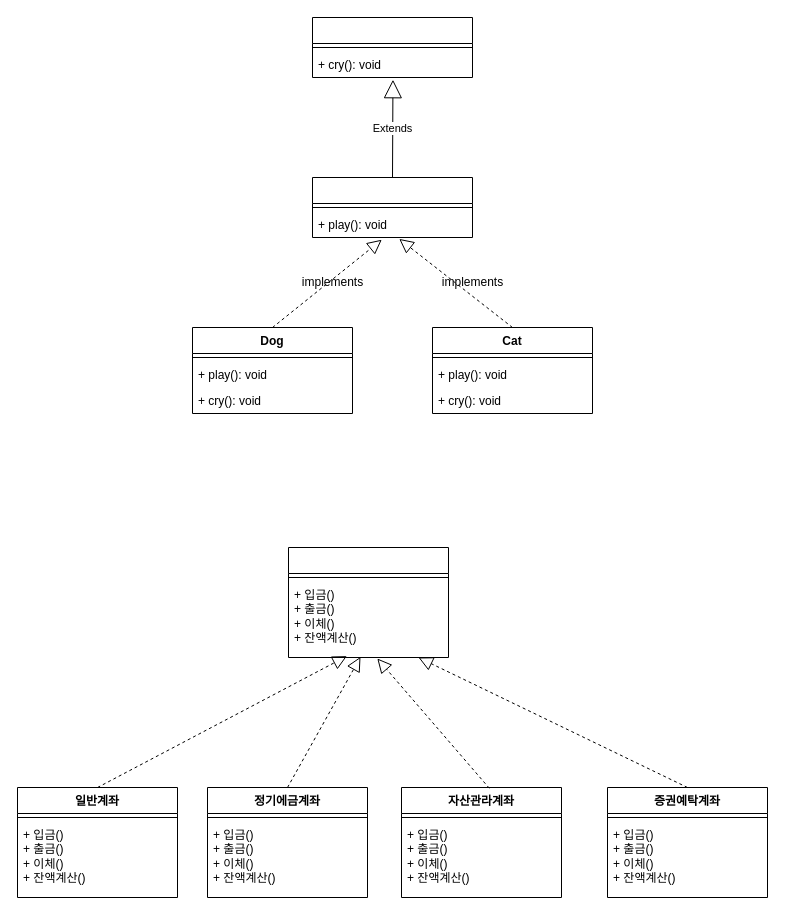
Image size: 785x918. Some labels were removed from this diagram. Here are the shapes that lost their labels. From the top down, the box of each, then its label:
(312, 16, 472, 78): Animal
(312, 176, 472, 238): Pet
(288, 546, 448, 658): 계좌
